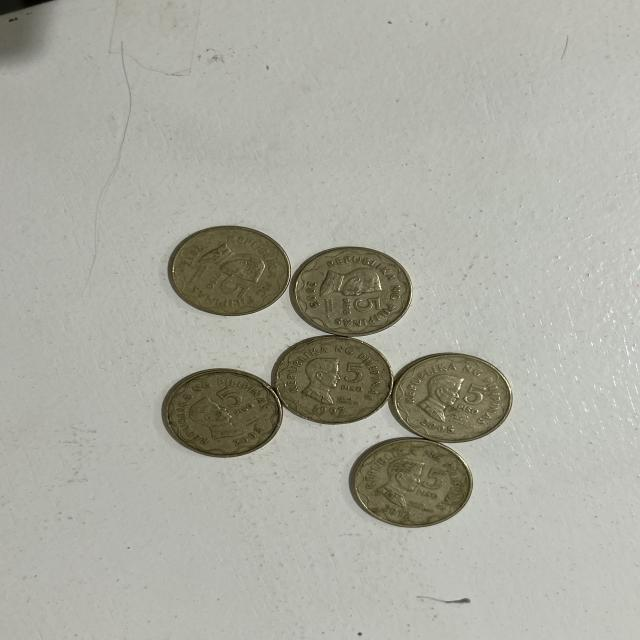5_Old_Front: (202, 267, 260, 306), (451, 377, 493, 424), (330, 296, 397, 320), (212, 384, 253, 421), (336, 359, 369, 403), (416, 461, 445, 503)
